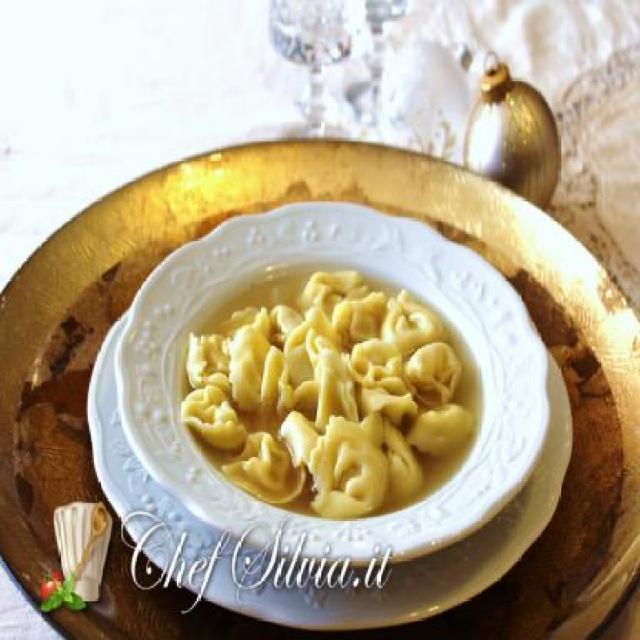Tortellini in broth: (162, 266, 484, 508)
